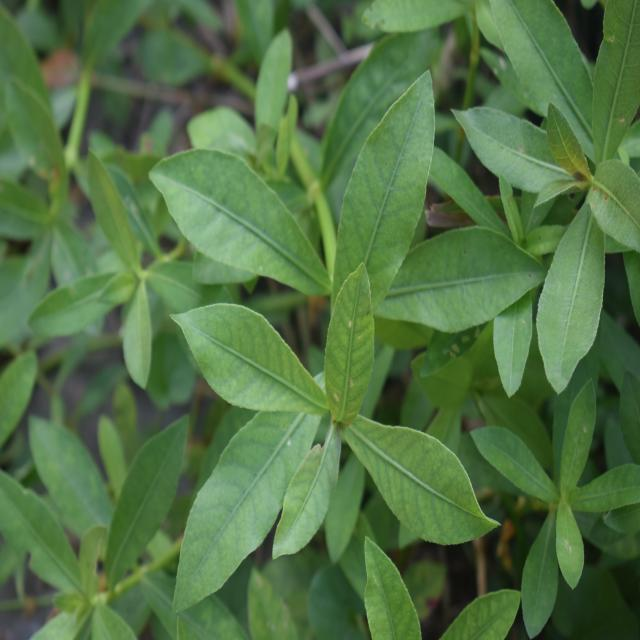Alligatorweed: (149, 81, 481, 579), (47, 145, 192, 401)
